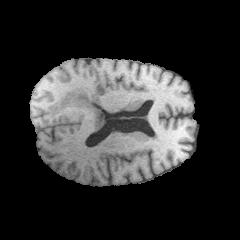glioma: (48, 81, 110, 131)
